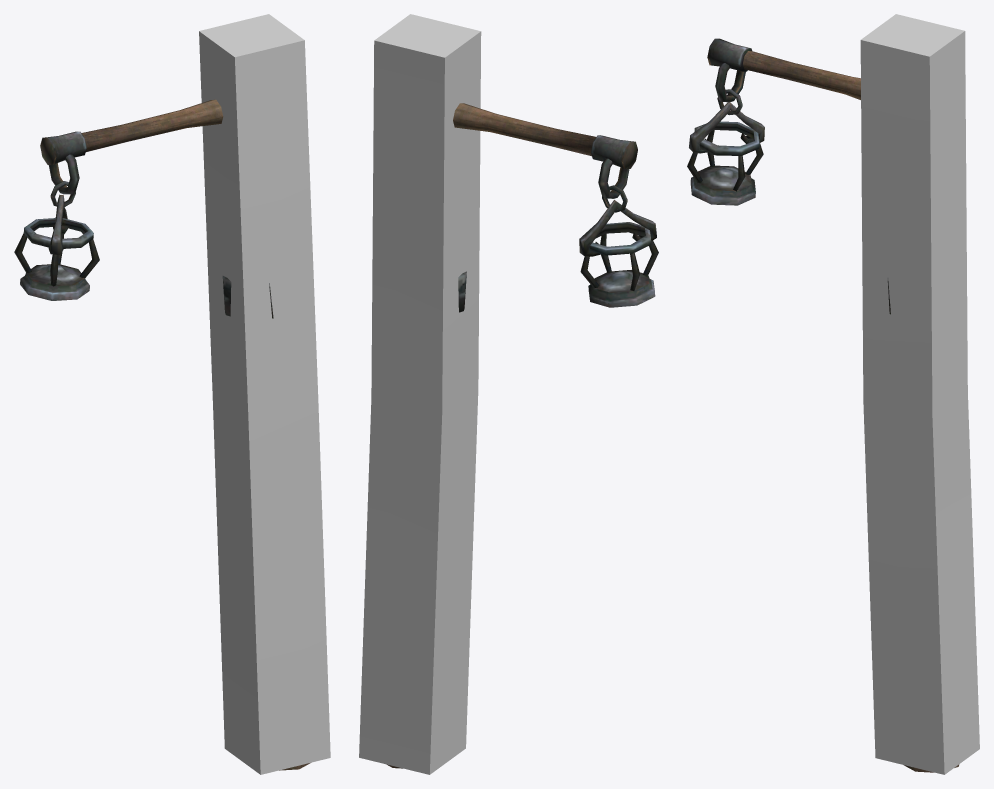
The model's file is Scene_Build_XuanWuShan_KuangDeng_1.FBX.
3 renders of one model, left to right at view 1: azimuth 30°, elevation 25°; view 2: azimuth 150°, elevation 25°; view 3: azimuth 330°, elevation 25°, orthographic. The views are drawn at different scales.
Parts seen in each view (by area): view 1: Scene_Build_XuanWuShan_KuangDeng_1_Xzm, Scene_Build_XuanWuShan_KuangDeng_1; view 2: Scene_Build_XuanWuShan_KuangDeng_1_Xzm, Scene_Build_XuanWuShan_KuangDeng_1; view 3: Scene_Build_XuanWuShan_KuangDeng_1_Xzm, Scene_Build_XuanWuShan_KuangDeng_1.
Boxes of the visible parts, x1=… form: Scene_Build_XuanWuShan_KuangDeng_1_Xzm: x1=199, y1=14, x2=330, y2=774; Scene_Build_XuanWuShan_KuangDeng_1: x1=14, y1=99, x2=310, y2=770; Scene_Build_XuanWuShan_KuangDeng_1_Xzm: x1=359, y1=14, x2=481, y2=774; Scene_Build_XuanWuShan_KuangDeng_1: x1=387, y1=103, x2=658, y2=768; Scene_Build_XuanWuShan_KuangDeng_1_Xzm: x1=860, y1=14, x2=979, y2=774; Scene_Build_XuanWuShan_KuangDeng_1: x1=687, y1=38, x2=959, y2=772.
Bounding box in the file's own units: 111 × 274 × 29.92.
